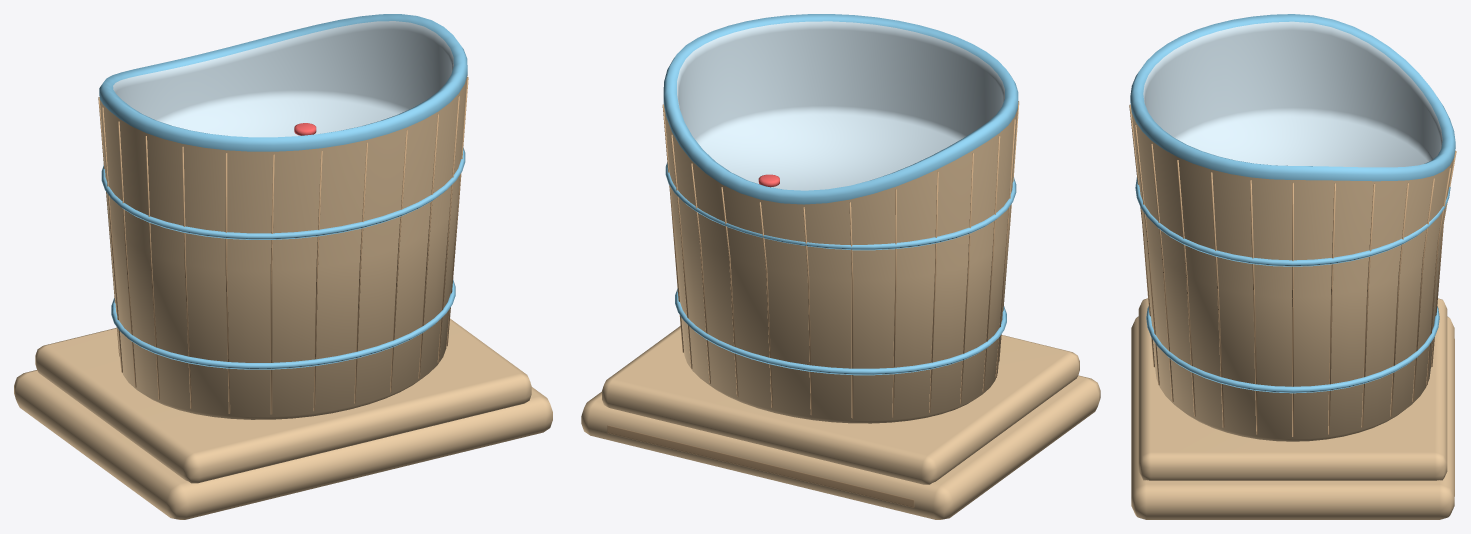
File: tub_wood.glb
The picture shows the model from 3 angles, left to right: view 1: azimuth 30°, elevation 25°; view 2: azimuth 150°, elevation 25°; view 3: azimuth 270°, elevation 25°; orthographic projection. The views are drawn at different scales.
Parts seen in each view (by area): view 1: Tub, Stand; view 2: Tub, Stand; view 3: Tub, Stand.
Boxes of the visible parts, <box> form: Tub: <box>98,14,468,419</box>; Stand: <box>14,318,552,519</box>; Tub: <box>662,14,1019,423</box>; Stand: <box>581,326,1100,519</box>; Tub: <box>1129,14,1456,441</box>; Stand: <box>1131,298,1454,519</box>.
Size of the model in its own units: 1.44 by 1.27 by 1.09.
6 materials, 6 textured.
